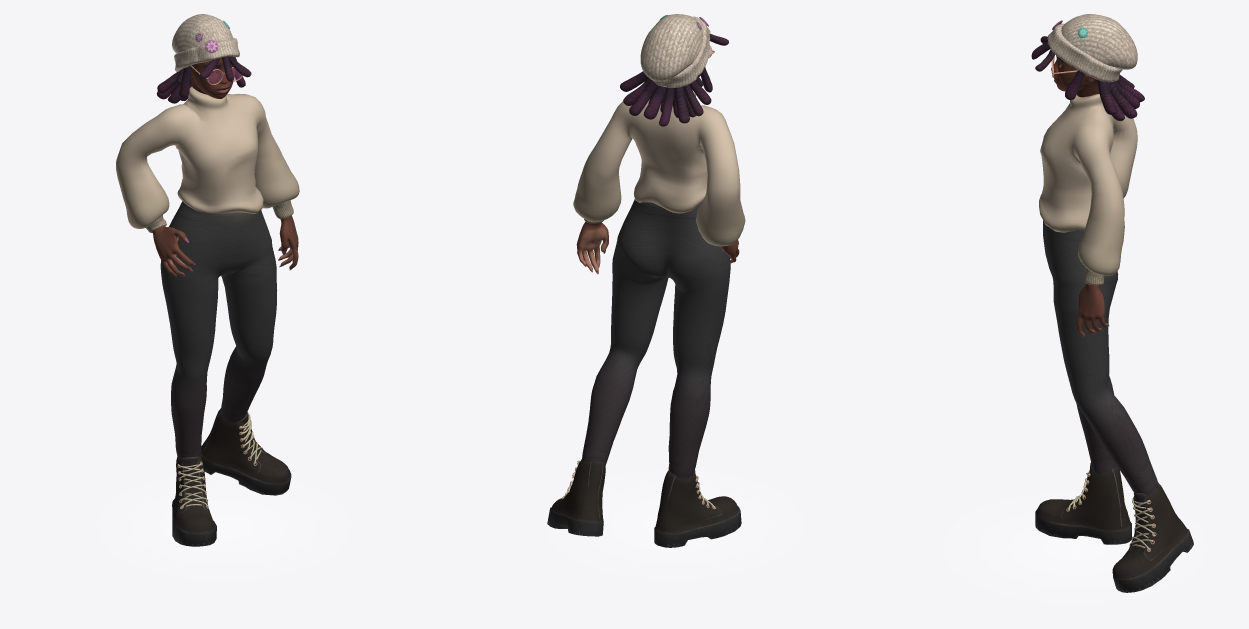
Rendered from teacher-girl.glb.
The picture shows the model from 3 angles, left to right: view 1: azimuth 30°, elevation 25°; view 2: azimuth 150°, elevation 25°; view 3: azimuth 270°, elevation 25°; orthographic projection. The views are drawn at different scales.
Visible parts, largest first — view 1: trousers_low, pullover_low, pPlane1_lambert1_0, shoes_low, cap_low, hands_low, face_low, laces_low; view 2: trousers_low, pullover_low, shoes_low, pPlane1_lambert1_0, cap_low, hands_low; view 3: pullover_low, trousers_low, shoes_low, pPlane1_lambert1_0, cap_low, hands_low, face_low, laces_low.
Part boxes in pixels (box(x1,y1,x2,y2)): trousers_low: box(160, 201, 277, 459); pullover_low: box(116, 86, 299, 228); pPlane1_lambert1_0: box(131, 487, 316, 565); shoes_low: box(172, 408, 291, 546); cap_low: box(172, 14, 239, 71); hands_low: box(152, 215, 298, 276); face_low: box(190, 57, 235, 98); laces_low: box(177, 413, 262, 508); trousers_low: box(582, 199, 730, 478); pullover_low: box(573, 90, 745, 246); shoes_low: box(547, 459, 741, 547); pPlane1_lambert1_0: box(583, 485, 768, 564); cap_low: box(640, 14, 710, 87); hands_low: box(576, 222, 739, 274); pullover_low: box(1039, 94, 1137, 275); trousers_low: box(1043, 220, 1158, 495); shoes_low: box(1035, 463, 1193, 592); pPlane1_lambert1_0: box(978, 510, 1134, 592); cap_low: box(1047, 14, 1137, 82); hands_low: box(1076, 283, 1109, 337); face_low: box(1051, 58, 1099, 97); laces_low: box(1067, 470, 1154, 550).
Size of the model in its own units: 1 by 1.82 by 1.
Materials: 6 (6 with a texture image).
